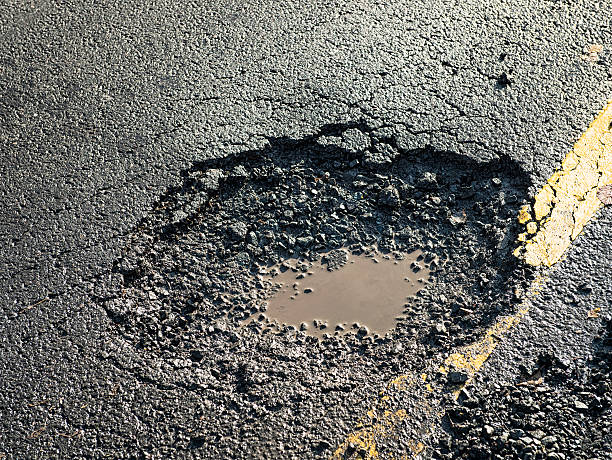trafficlight: (111, 105, 532, 367)
